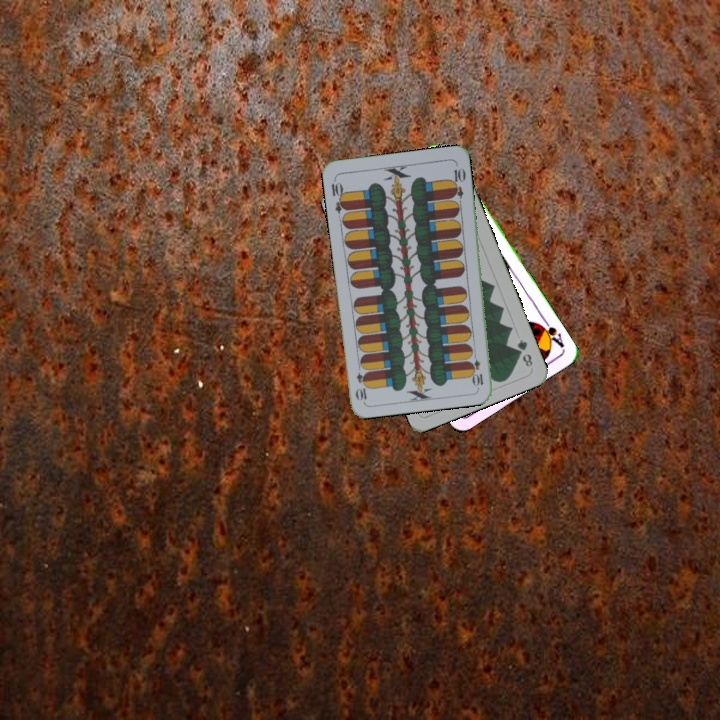E10: (327, 175, 349, 215), (468, 348, 486, 389)
G8: (513, 335, 535, 370)
SA: (534, 314, 567, 351)
